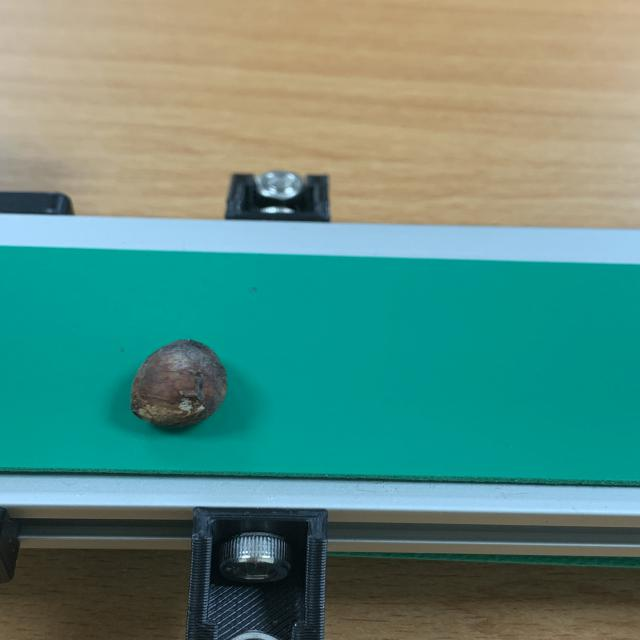Fine_cocoabeans: (37, 322, 322, 459)
